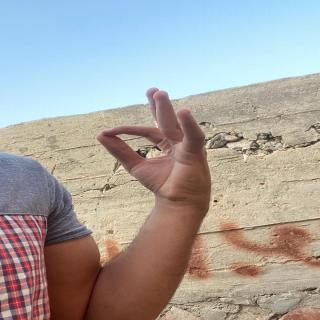Space: (100, 85, 232, 205)
